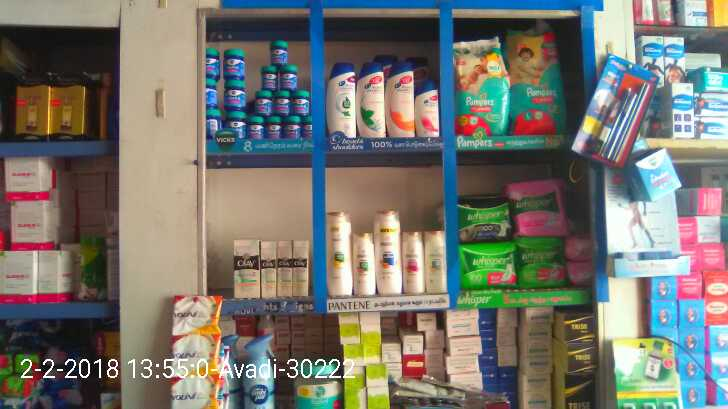vicks: (206, 28, 311, 137)
